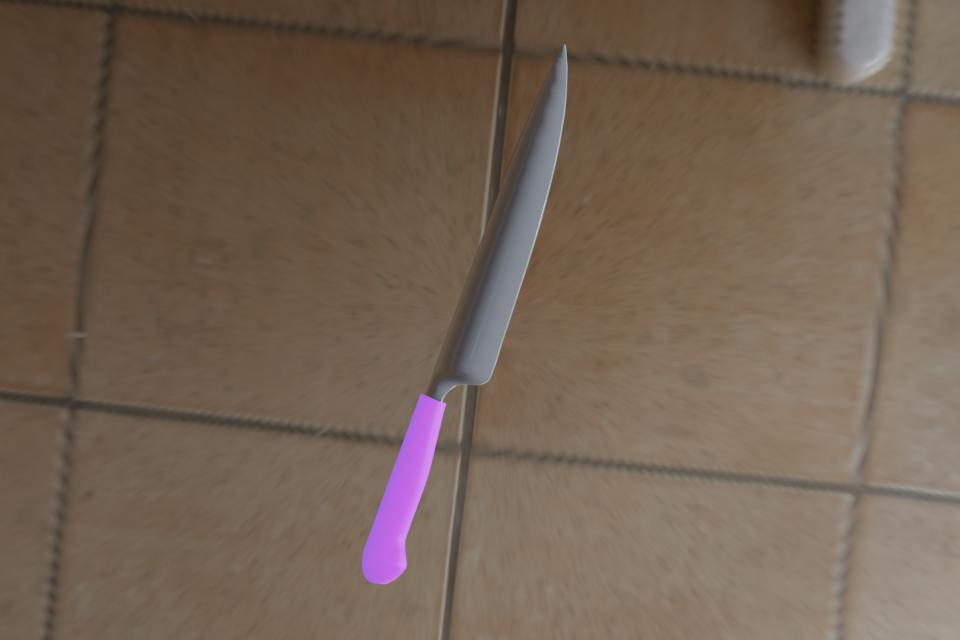knife: (362, 49, 574, 587)
